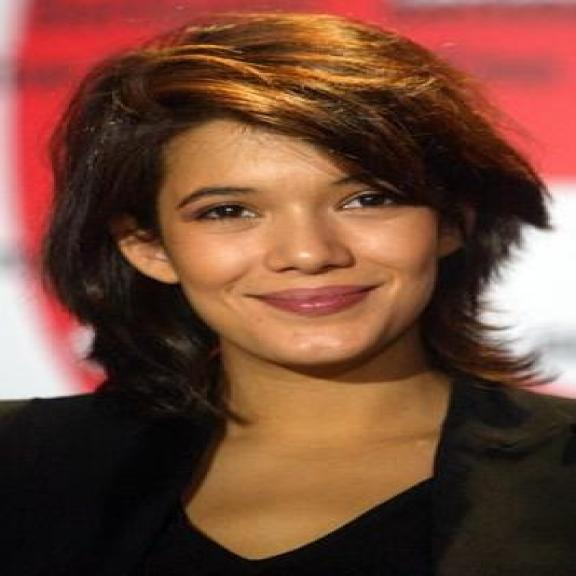face: (99, 102, 494, 376)
